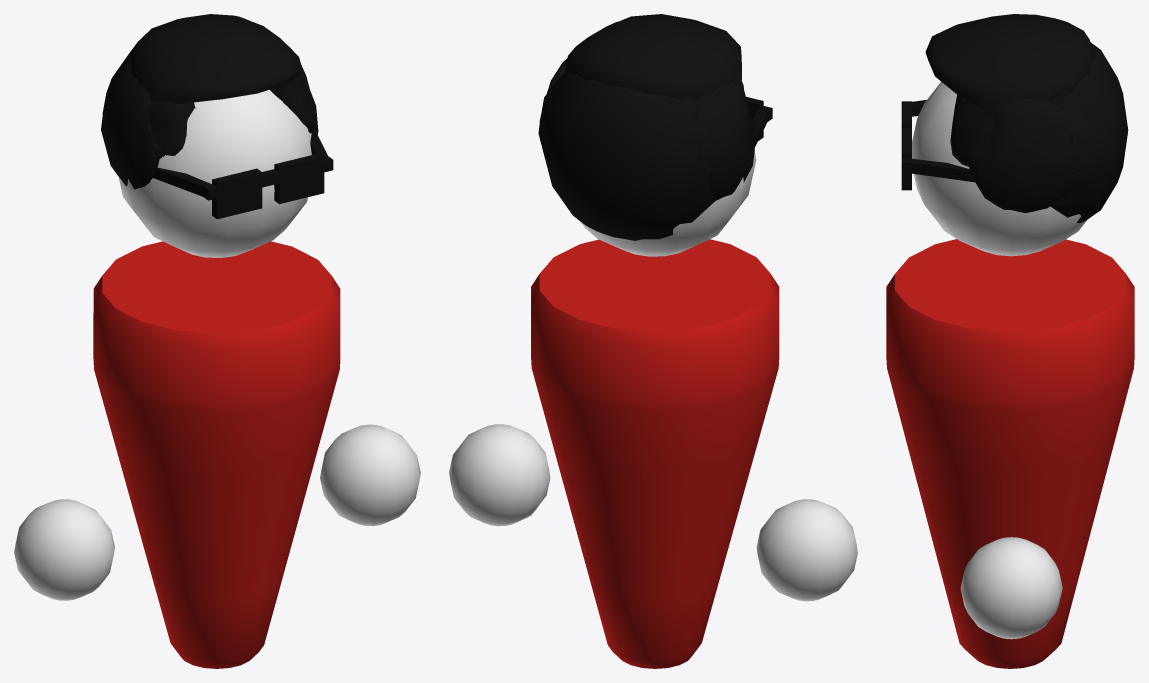
Rendered from dad.fbx.
The picture shows the model from 3 angles, left to right: view 1: azimuth 30°, elevation 25°; view 2: azimuth 150°, elevation 25°; view 3: azimuth 270°, elevation 25°; orthographic projection.
Parts seen in each view (by area): view 1: Cylinder003, Sphere068, Sphere005, Sphere009, Sphere008, Box001; view 2: Cylinder003, Sphere068, Sphere009, Sphere008, Sphere005, Box001; view 3: Cylinder003, Sphere068, Sphere005, Sphere008, Box001.
Boxes of the visible parts, left/top/right/bottom form: Cylinder003: left=93, top=241, right=340, bottom=668; Sphere068: left=101, top=14, right=318, bottom=189; Sphere005: left=118, top=89, right=311, bottom=257; Sphere009: left=14, top=499, right=114, bottom=600; Sphere008: left=320, top=424, right=420, bottom=526; Box001: left=152, top=130, right=333, bottom=219; Cylinder003: left=531, top=239, right=779, bottom=668; Sphere068: left=538, top=14, right=755, bottom=240; Sphere009: left=756, top=499, right=857, bottom=601; Sphere008: left=449, top=424, right=550, bottom=526; Sphere005: left=579, top=151, right=756, bottom=256; Box001: left=746, top=96, right=772, bottom=146; Cylinder003: left=886, top=239, right=1134, bottom=668; Sphere068: left=925, top=14, right=1128, bottom=222; Sphere005: left=912, top=81, right=1086, bottom=256; Sphere008: left=960, top=537, right=1062, bottom=639; Box001: left=901, top=99, right=974, bottom=190.
Bounding box in the file's own units: 1.12 × 1.68 × 0.6067.
